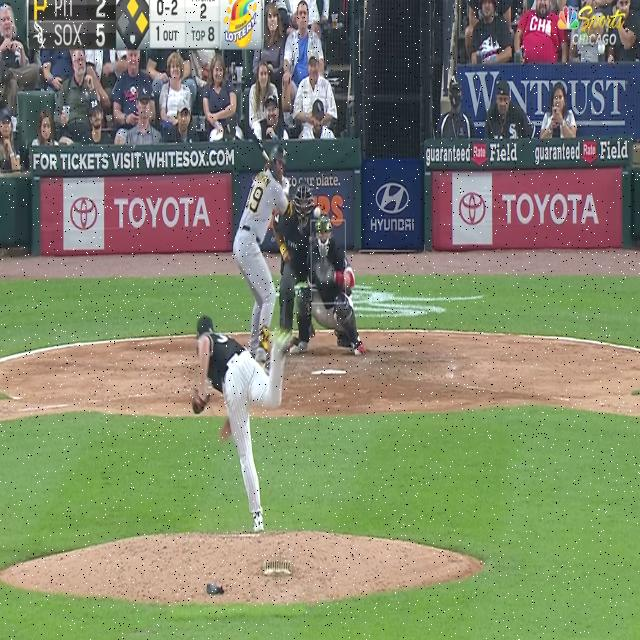baseball: (314, 206, 320, 218)
